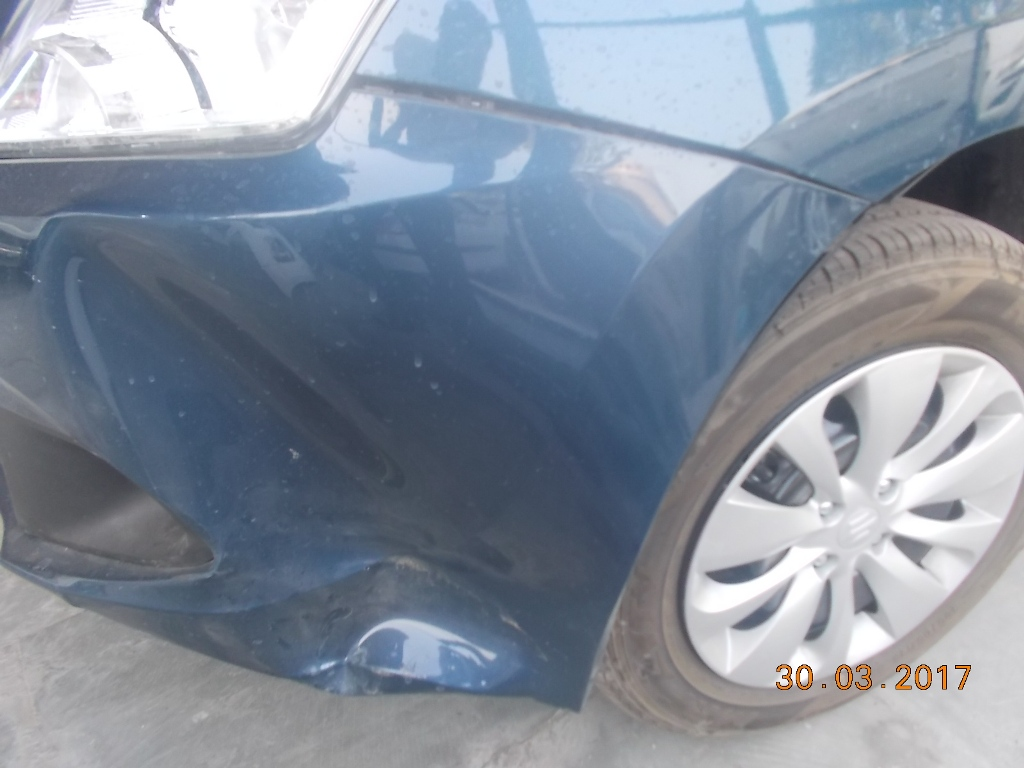Dent: (315, 538, 542, 702)
